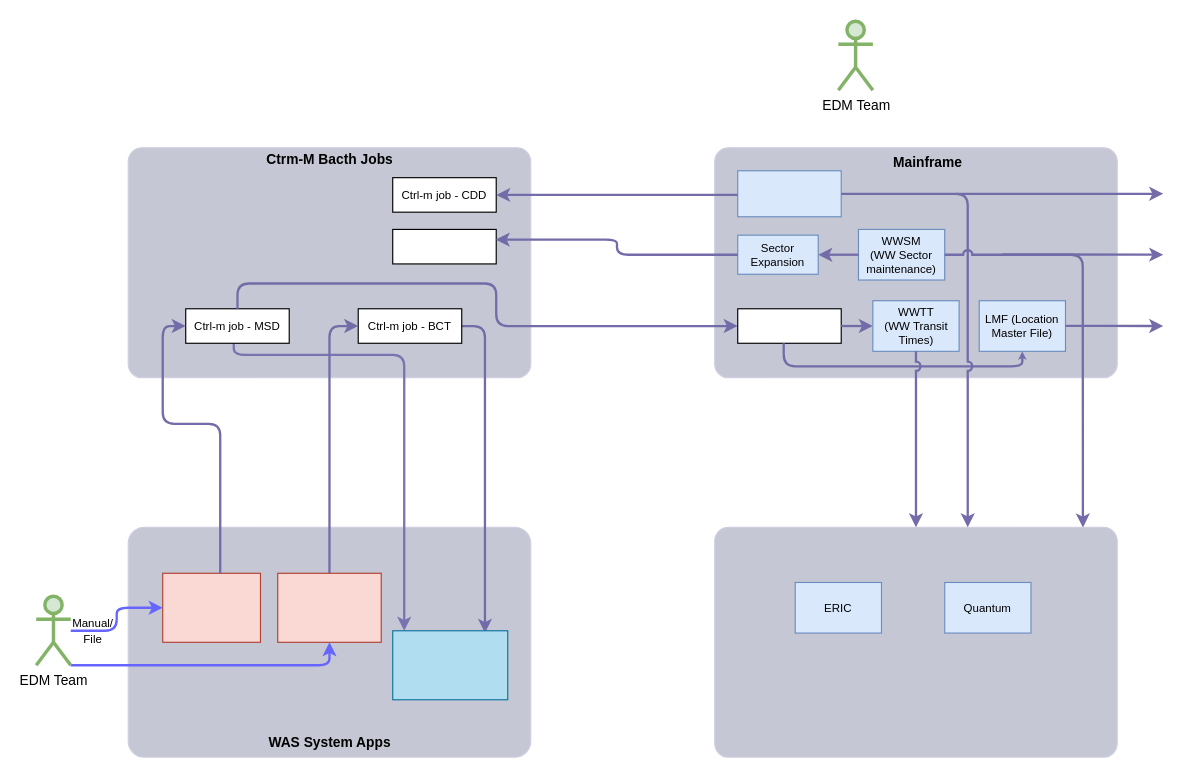
The diagram is 1194 pixels wide and 781 high, and some of its shapes have lost their labels. Here are the shapes that lost their labels. From the top down, the centre of each, then its label:
point 789,193: CDD (Collection Duration & Delivery)
point 444,246: Ctrl-m job - WWSM
point 789,325: SQL Loader
point 211,607: Multiple Service Definition (MSD)
point 329,607: Booking Cutoff Time (BCT)
point 450,665: Operational Service Capability
